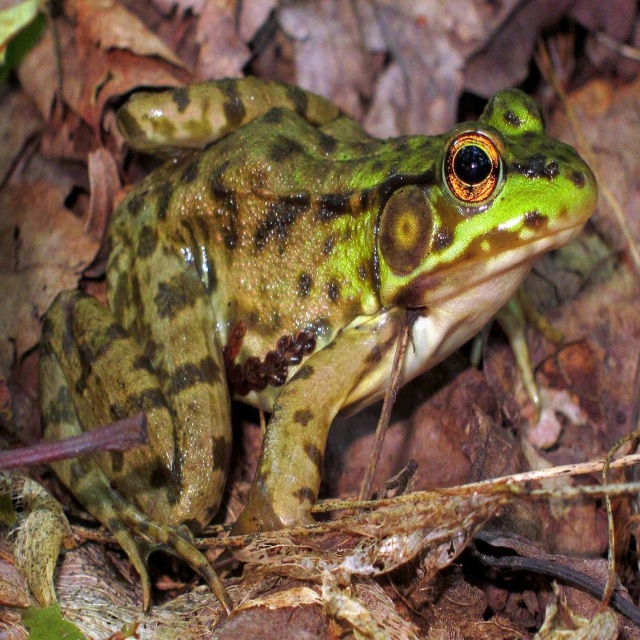Frog: (39, 75, 599, 615)
